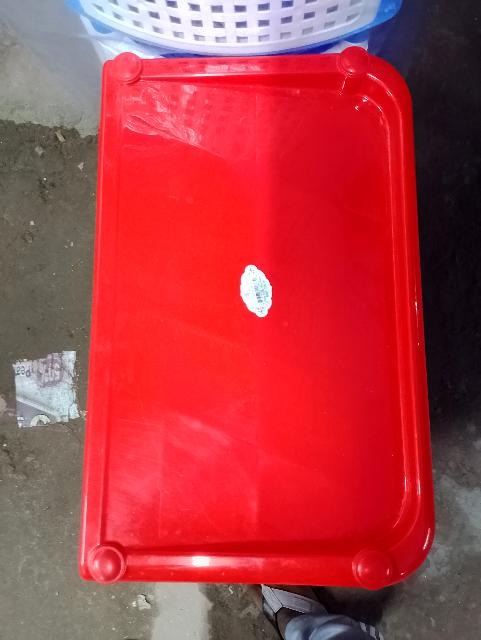hardplastic: (73, 35, 445, 606)
